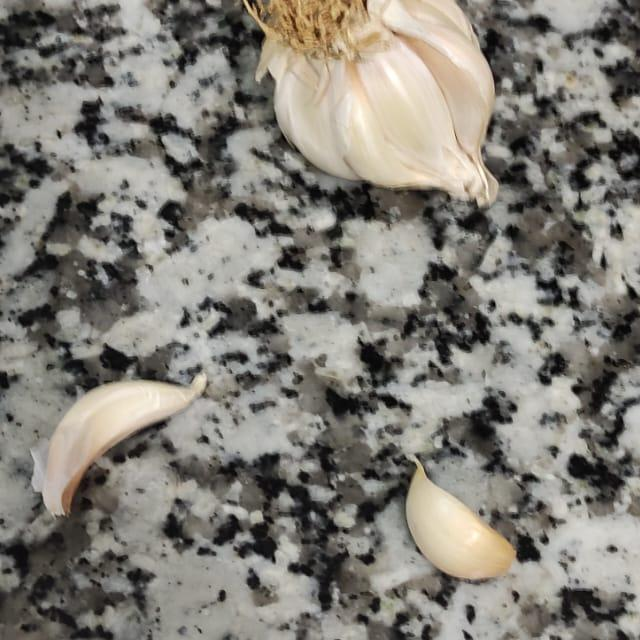garlic: (240, 0, 536, 229), (0, 316, 246, 526), (374, 429, 567, 616)
